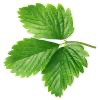Strawberry leaf: (40, 44, 90, 99), (2, 38, 62, 79), (16, 3, 76, 41)
